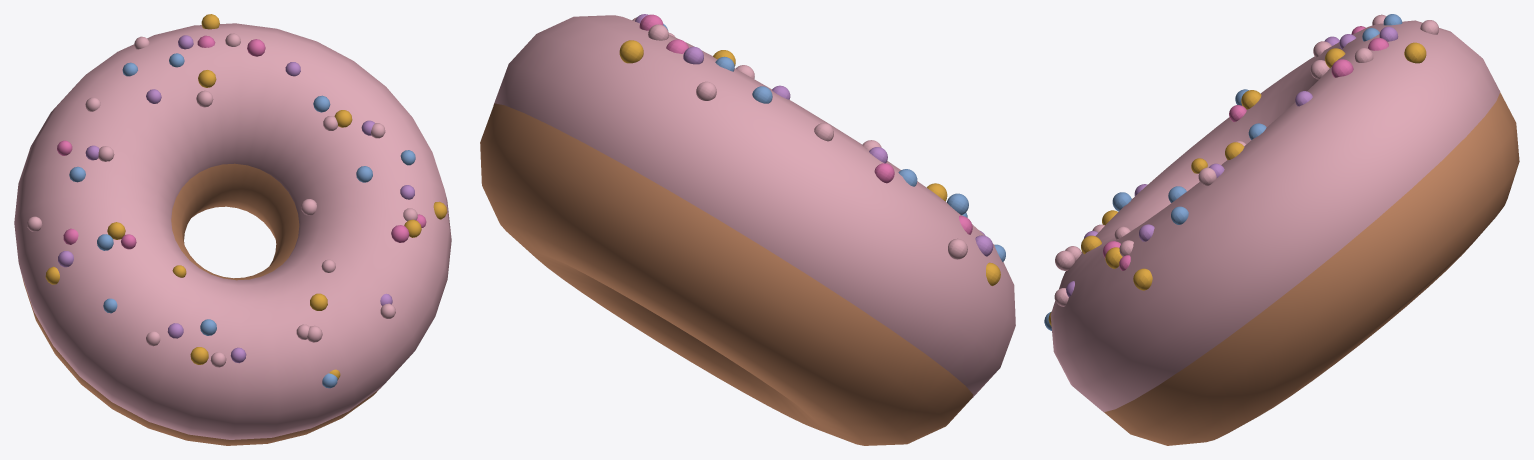
File: donut.gltf
3 views of the same model, side by side, from view 1: azimuth 30°, elevation 25°; view 2: azimuth 150°, elevation 25°; view 3: azimuth 270°, elevation 25° (orthographic). The views are drawn at different scales.
Parts seen in each view (by area): view 1: Torus -top, Torus, Merged Geometry, Merged Geometry 5, Merged Geometry 3, Merged Geometry 4, Merged Geometry 2; view 2: Torus -top, Torus, Merged Geometry, Merged Geometry 3, Merged Geometry 5, Merged Geometry 4, Merged Geometry 2; view 3: Torus -top, Torus, Merged Geometry 5, Merged Geometry, Merged Geometry 3, Merged Geometry 4, Merged Geometry 2.
Part boxes in pixels (x1,y1,x2,y2): Torus -top: (14, 23, 451, 439); Torus: (22, 163, 378, 445); Merged Geometry: (27, 33, 417, 367); Merged Geometry 5: (45, 14, 447, 379); Merged Geometry 3: (69, 53, 415, 388); Merged Geometry 4: (58, 35, 414, 363); Merged Geometry 2: (57, 35, 426, 249); Torus -top: (493, 15, 1015, 397); Torus: (480, 103, 973, 445); Merged Geometry: (632, 17, 967, 259); Merged Geometry 3: (663, 24, 1005, 261); Merged Geometry 5: (619, 40, 1000, 285); Merged Geometry 4: (635, 14, 993, 256); Merged Geometry 2: (639, 14, 972, 234); Torus -top: (1050, 20, 1500, 412); Torus: (1104, 92, 1519, 445); Merged Geometry 5: (1048, 42, 1426, 326); Merged Geometry: (1054, 14, 1438, 306); Merged Geometry 3: (1044, 14, 1402, 330); Merged Geometry 4: (1066, 26, 1398, 296); Merged Geometry 2: (1103, 26, 1388, 270).
Bounding box in the file's own units: 1.57 × 1.36 × 1.44.
